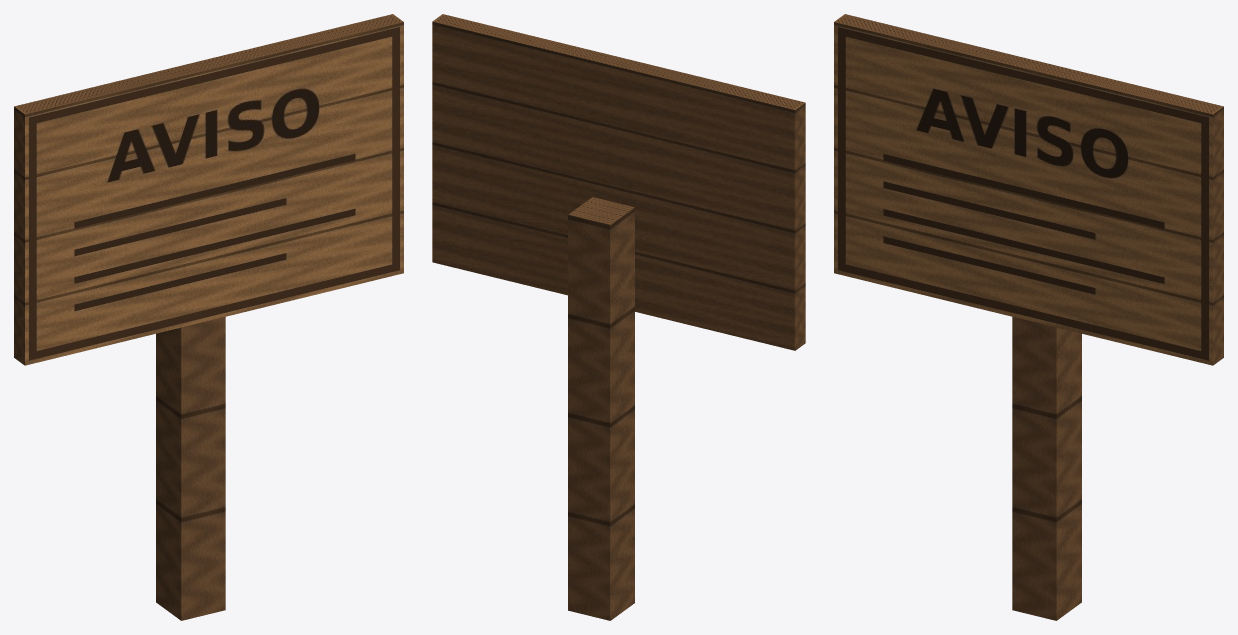
The model's file is sign.obj.
The picture shows the model from 3 angles, left to right: view 1: azimuth 30°, elevation 25°; view 2: azimuth 150°, elevation 25°; view 3: azimuth 330°, elevation 25°; orthographic projection. The views are drawn at different scales.
Parts seen in each view (by area): view 1: sign; view 2: sign; view 3: sign.
Part boxes in pixels (left/top/right/bottom): sign: left=14, top=14, right=403, bottom=620; sign: left=432, top=14, right=805, bottom=620; sign: left=834, top=14, right=1223, bottom=620.
Size of the model in its own units: 1.2 by 1.68 by 0.2.
Materials: 1 (1 with a texture image).
